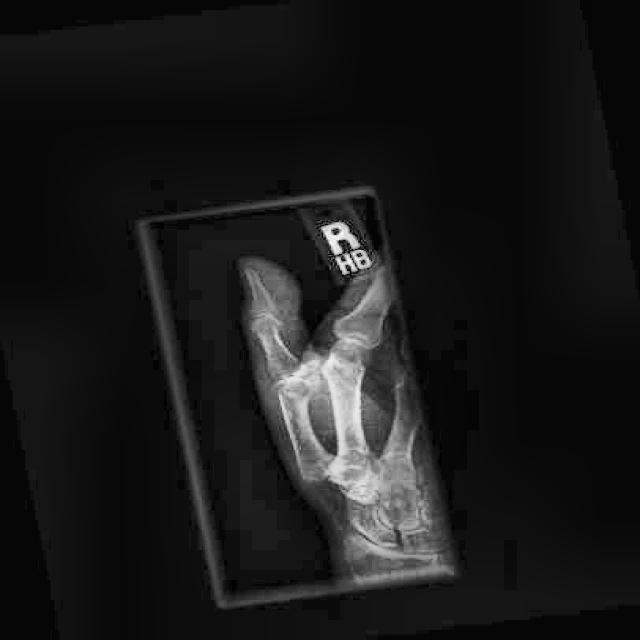fingers positive: (262, 369, 329, 406), (241, 311, 294, 340)
